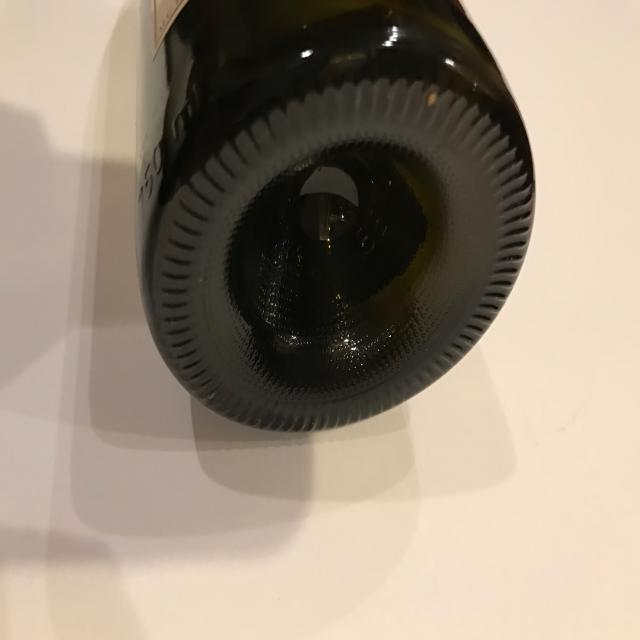glass: (134, 0, 536, 434)
